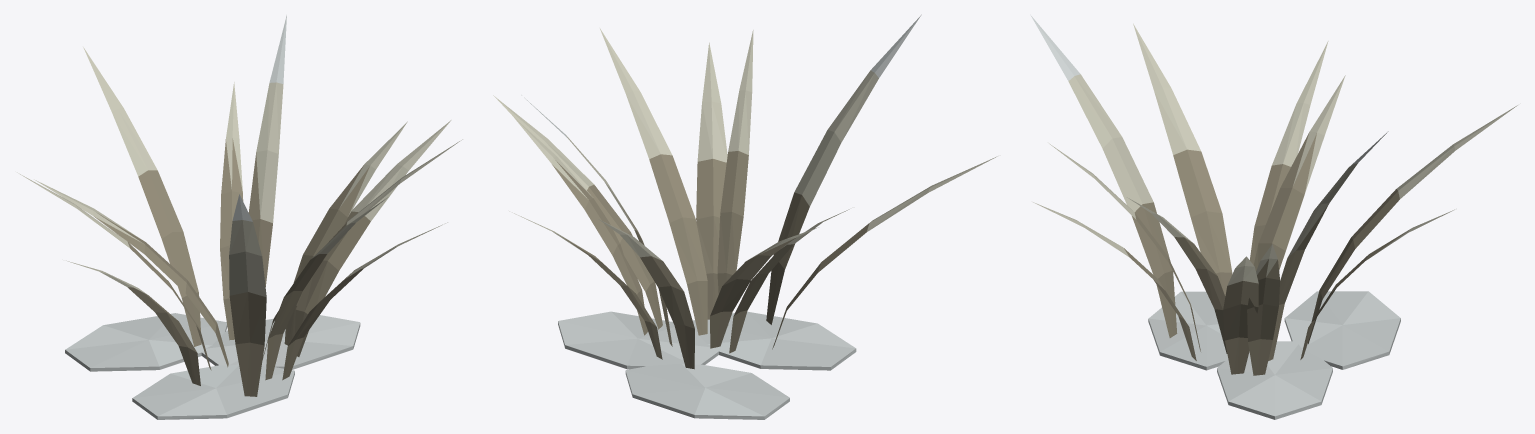
File: grass_tuft_a_winter.glb
3 views of the same model, side by side, from view 1: azimuth 30°, elevation 25°; view 2: azimuth 150°, elevation 25°; view 3: azimuth 270°, elevation 25° (orthographic). The views are drawn at different scales.
Parts seen in each view (by area): view 1: geometry; view 2: geometry; view 3: geometry.
Boxes of the visible parts, box(x1,y1,x2,y2) form: geometry: box(17, 15, 462, 419); geometry: box(493, 14, 997, 419); geometry: box(1030, 14, 1517, 419).
Size of the model in its own units: 0.4008 by 0.24 by 0.3717.
